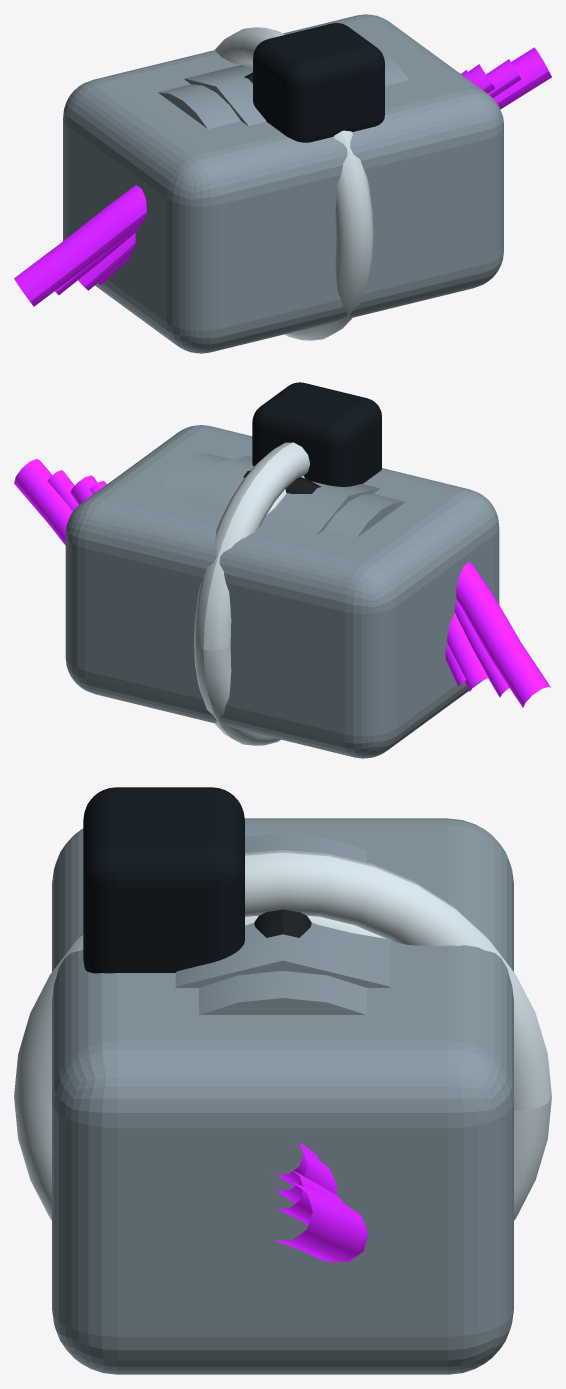
File: electrical_02.glb
3 renders of one model, top to bottom at view 1: azimuth 30°, elevation 25°; view 2: azimuth 150°, elevation 25°; view 3: azimuth 270°, elevation 25°, orthographic. The views are drawn at different scales.
Visible parts, largest first — view 1: asset_mesh__electrical_0080__reference_body, asset_mesh__electrical_0061__electrical_connector, asset_mesh__electrical_0062__functional_ring, asset_mesh__electrical_0098__current_path, asset_mesh__electrical_0061__electromagnetic_housing, asset_mesh__electrical_0062__rotor, asset_mesh__electrical_0076__current_path, asset_mesh__electrical_0096__current_path; view 2: asset_mesh__electrical_0080__reference_body, asset_mesh__electrical_0062__functional_ring, asset_mesh__electrical_0061__electrical_connector, asset_mesh__electrical_0098__current_path, asset_mesh__electrical_0062__rotor, asset_mesh__electrical_0061__electromagnetic_housing, asset_mesh__electrical_0076__current_path, asset_mesh__electrical_0096__current_path, asset_mesh__electrical_0093__current_path; view 3: asset_mesh__electrical_0080__reference_body, asset_mesh__electrical_0061__electrical_connector, asset_mesh__electrical_0062__functional_ring, asset_mesh__electrical_0061__electromagnetic_housing, asset_mesh__electrical_0062__rotor, asset_mesh__electrical_0098__current_path, asset_mesh__electrical_0094__service_element, asset_mesh__electrical_0076__current_path, asset_mesh__electrical_0096__current_path.
Boxes of the visible parts, box(x1,y1,x2,y2) form: asset_mesh__electrical_0080__reference_body: box(63, 14, 503, 353); asset_mesh__electrical_0061__electrical_connector: box(253, 23, 384, 142); asset_mesh__electrical_0062__functional_ring: box(215, 27, 373, 340); asset_mesh__electrical_0098__current_path: box(14, 47, 551, 306); asset_mesh__electrical_0061__electromagnetic_housing: box(158, 48, 408, 128); asset_mesh__electrical_0062__rotor: box(184, 64, 266, 125); asset_mesh__electrical_0076__current_path: box(78, 64, 494, 290); asset_mesh__electrical_0096__current_path: box(55, 59, 521, 294); asset_mesh__electrical_0080__reference_body: box(65, 425, 499, 758); asset_mesh__electrical_0062__functional_ring: box(194, 442, 309, 745); asset_mesh__electrical_0061__electrical_connector: box(252, 382, 381, 486); asset_mesh__electrical_0098__current_path: box(14, 459, 550, 707); asset_mesh__electrical_0062__rotor: box(184, 456, 379, 534); asset_mesh__electrical_0061__electromagnetic_housing: box(159, 453, 405, 537); asset_mesh__electrical_0076__current_path: box(70, 475, 488, 691); asset_mesh__electrical_0096__current_path: box(47, 470, 509, 697); asset_mesh__electrical_0093__current_path: box(89, 481, 466, 686); asset_mesh__electrical_0080__reference_body: box(52, 818, 513, 1374); asset_mesh__electrical_0061__electrical_connector: box(83, 787, 244, 973); asset_mesh__electrical_0062__functional_ring: box(14, 850, 551, 1220); asset_mesh__electrical_0061__electromagnetic_housing: box(199, 833, 366, 1014); asset_mesh__electrical_0062__rotor: box(175, 923, 390, 987); asset_mesh__electrical_0098__current_path: box(274, 1182, 368, 1261); asset_mesh__electrical_0094__service_element: box(254, 909, 311, 937); asset_mesh__electrical_0076__current_path: box(275, 1143, 337, 1203); asset_mesh__electrical_0096__current_path: box(277, 1169, 343, 1224).
Bounding box in the file's own units: 1.73 × 0.9666 × 0.8996.
